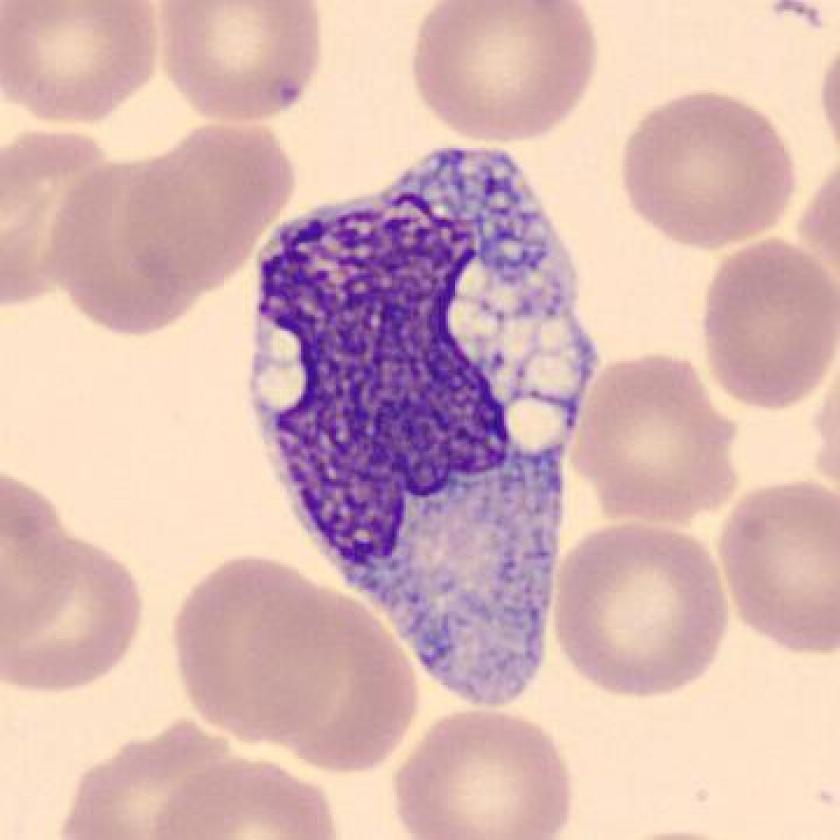monocyte: (232, 126, 622, 723)
